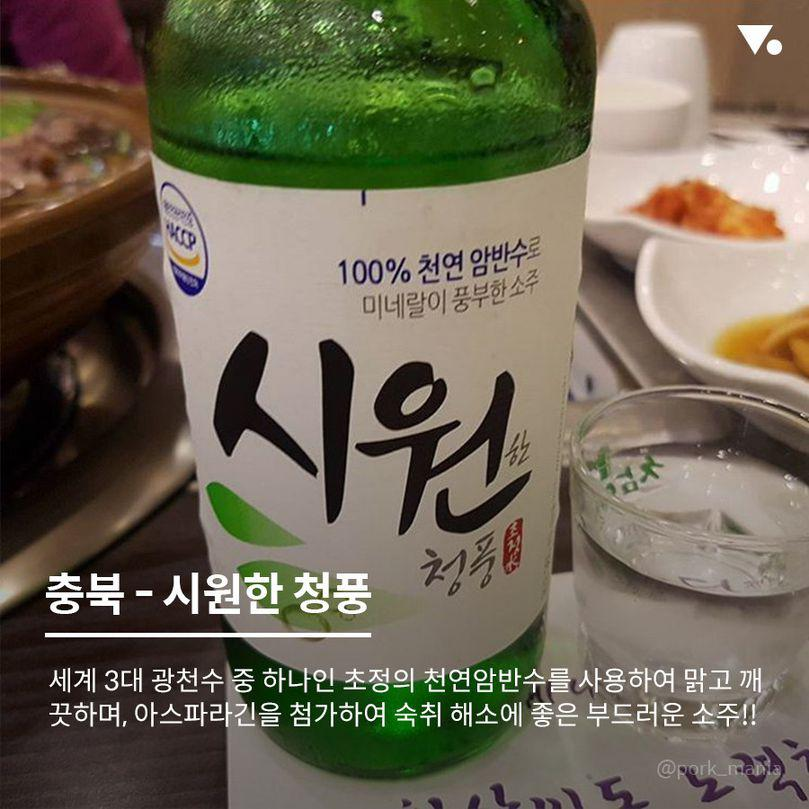soju: (140, 7, 571, 773)
